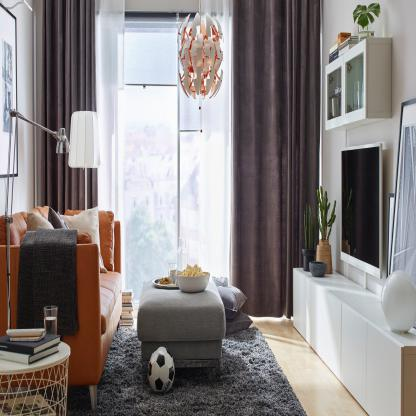lampu: (67, 107, 106, 170)
sova: (2, 191, 123, 381)
tanaman: (311, 188, 336, 240)
tv: (338, 143, 389, 277)
